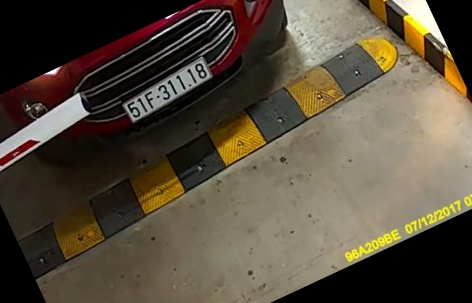plate: (114, 59, 214, 128)
